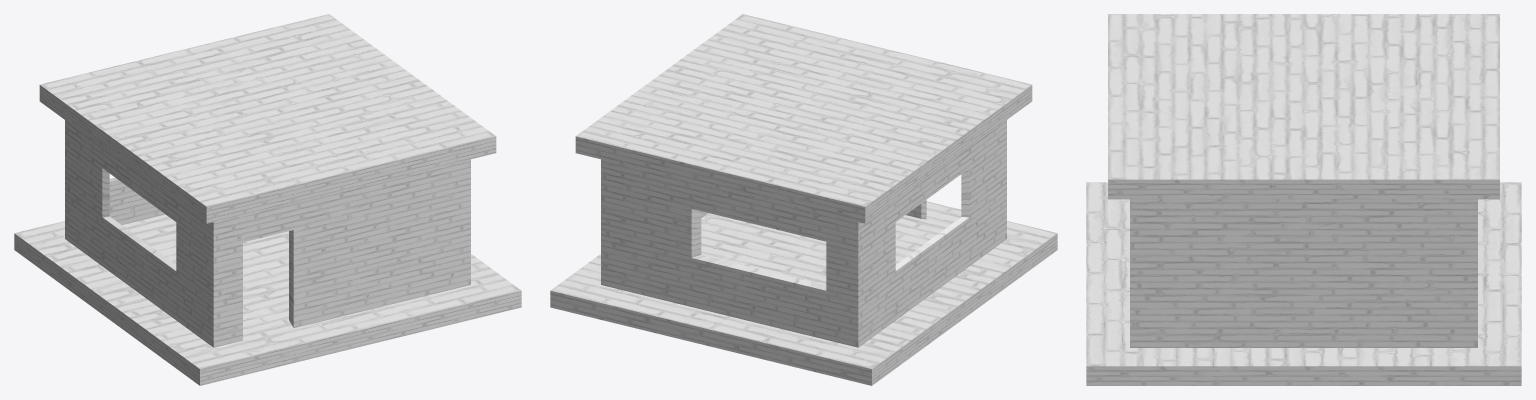
File: Casa base 2.fbx
3 renders of one model, left to right at view 1: azimuth 30°, elevation 25°; view 2: azimuth 150°, elevation 25°; view 3: azimuth 270°, elevation 25°, orthographic. The views are drawn at different scales.
Visible parts, largest first — view 1: Suelo.012, Paredes.001, Suelo.011; view 2: Suelo.012, Paredes.001, Suelo.011; view 3: Suelo.012, Paredes.001, Suelo.011.
Part boxes in pixels (left/top/right/bottom): Suelo.012: left=39, top=14, right=496, bottom=223; Paredes.001: left=65, top=120, right=470, bottom=347; Suelo.011: left=14, top=214, right=521, bottom=385; Suelo.012: left=575, top=14, right=1032, bottom=223; Paredes.001: left=601, top=120, right=1006, bottom=347; Suelo.011: left=550, top=201, right=1057, bottom=385; Suelo.012: left=1108, top=14, right=1499, bottom=199; Paredes.001: left=1130, top=199, right=1477, bottom=347; Suelo.011: left=1086, top=182, right=1521, bottom=385.
Bounding box in the file's own units: 1000 × 500 × 1000.
